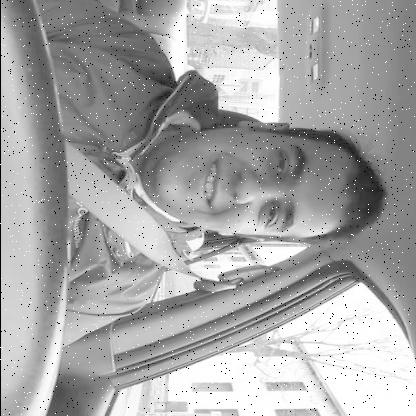seatbelt: (64, 104, 388, 300)
